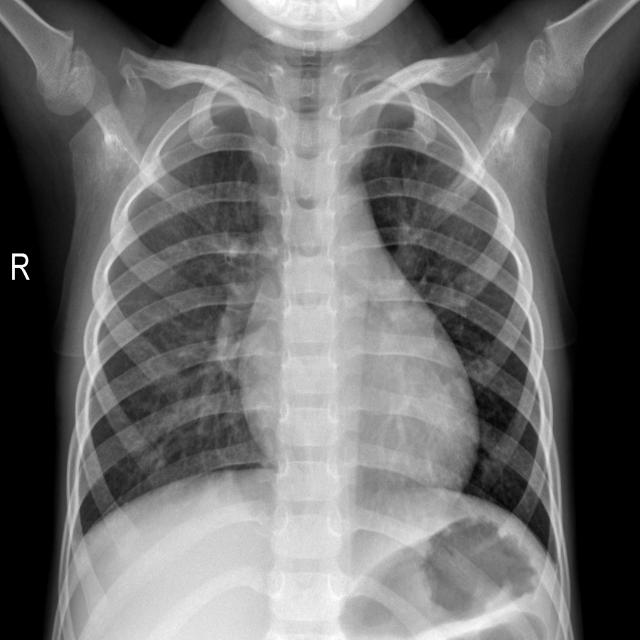no-pneumonia: (63, 77, 278, 568), (361, 88, 570, 588)
